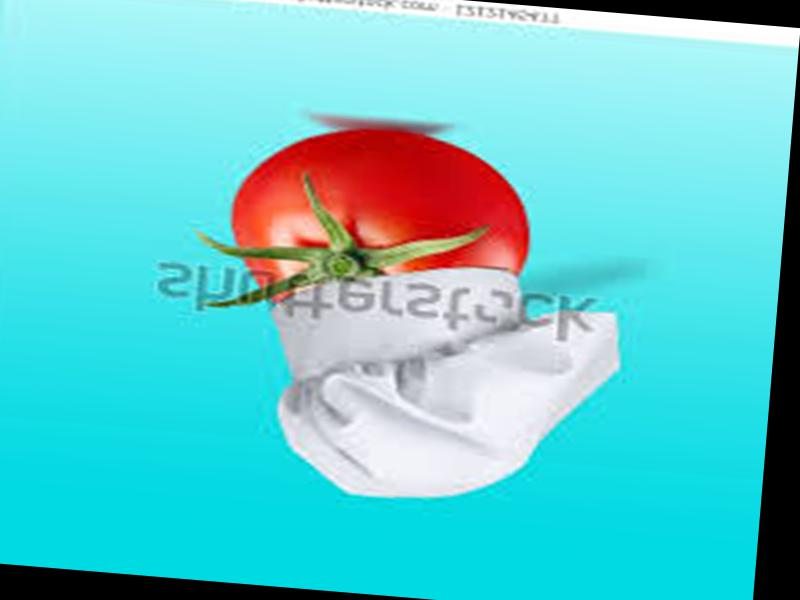Tomato: (229, 121, 536, 324)
